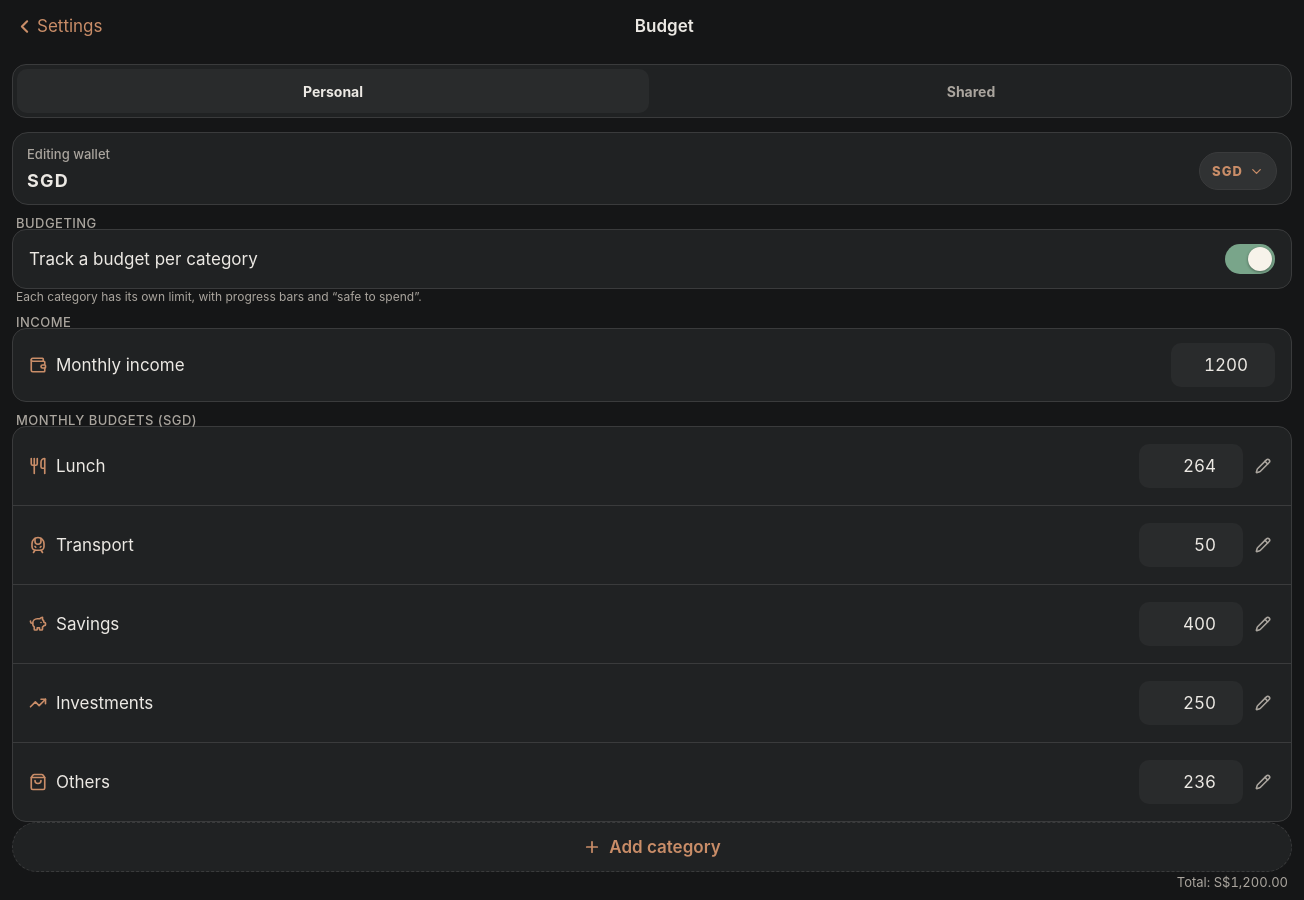
Test case: BudgetSettings › shows shared budget settings after switching scope, and not before
Click the button "Shared": (971, 91) [655, 69, 1287, 113]
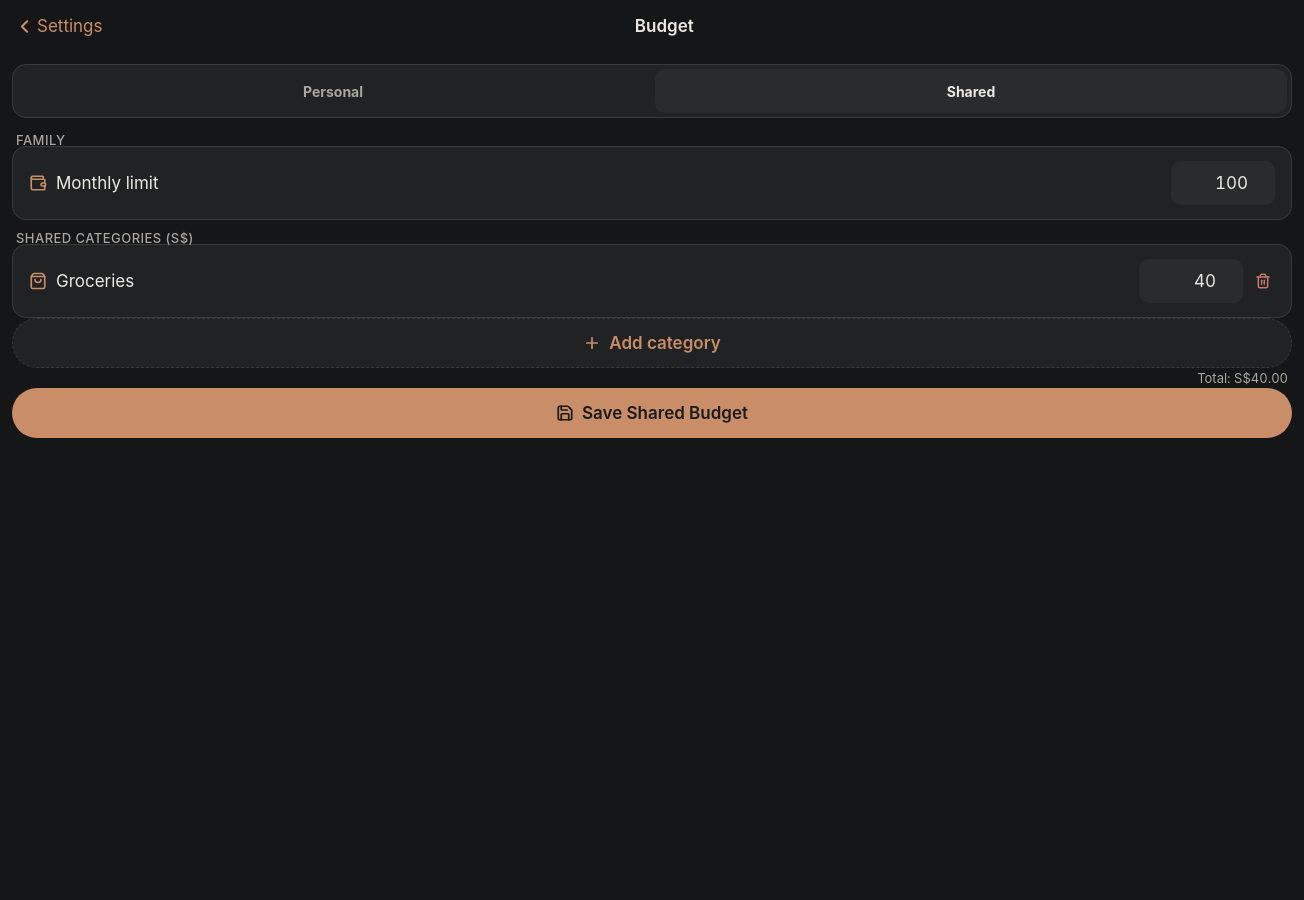
Expected: the number field with id "shared-monthly-limit" is shown, [1171, 161, 1275, 205]
Expected: the text "Shared Categories" is shown, [16, 230, 194, 246]
Expected: the label with id "budget-monthly-income" is gone
